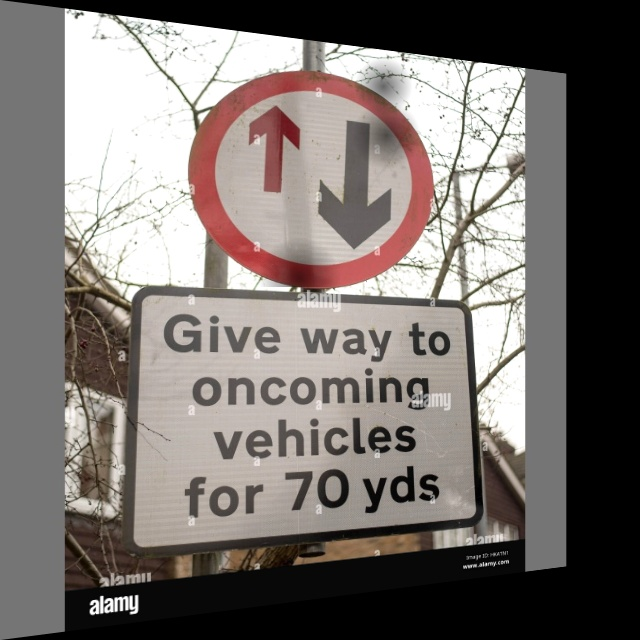Priority_for_Oncoming_Traffic: (189, 56, 435, 287)
